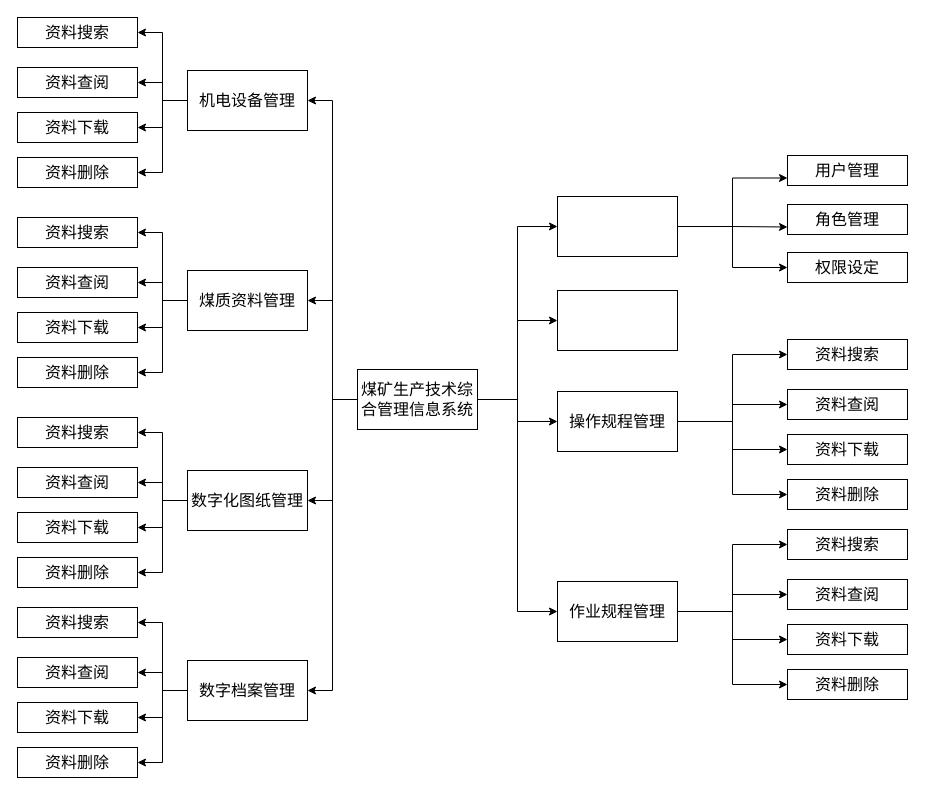
Some shapes in this 925 by 795 pixel diagram are drawn without their labels. Each missing label, with the box of its shape:
煤矿基础信息: (556, 290, 678, 350)
系统管理: (556, 196, 678, 256)
